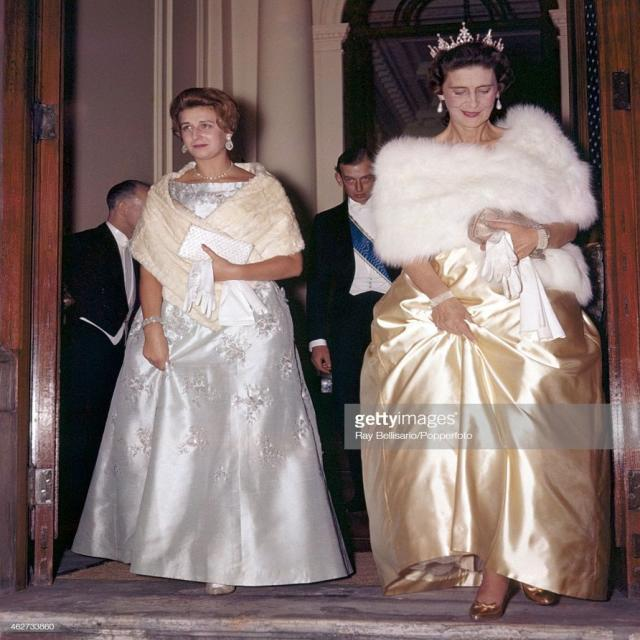Earring: (223, 125, 243, 159), (436, 94, 449, 120), (494, 90, 504, 119), (180, 143, 190, 156)
